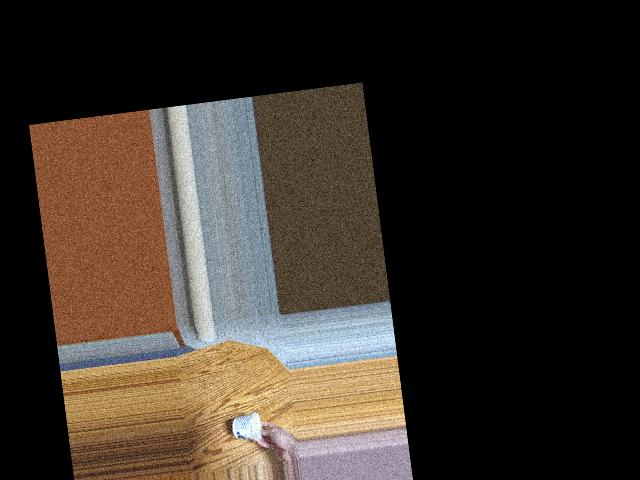cotage: (234, 408, 263, 443)
